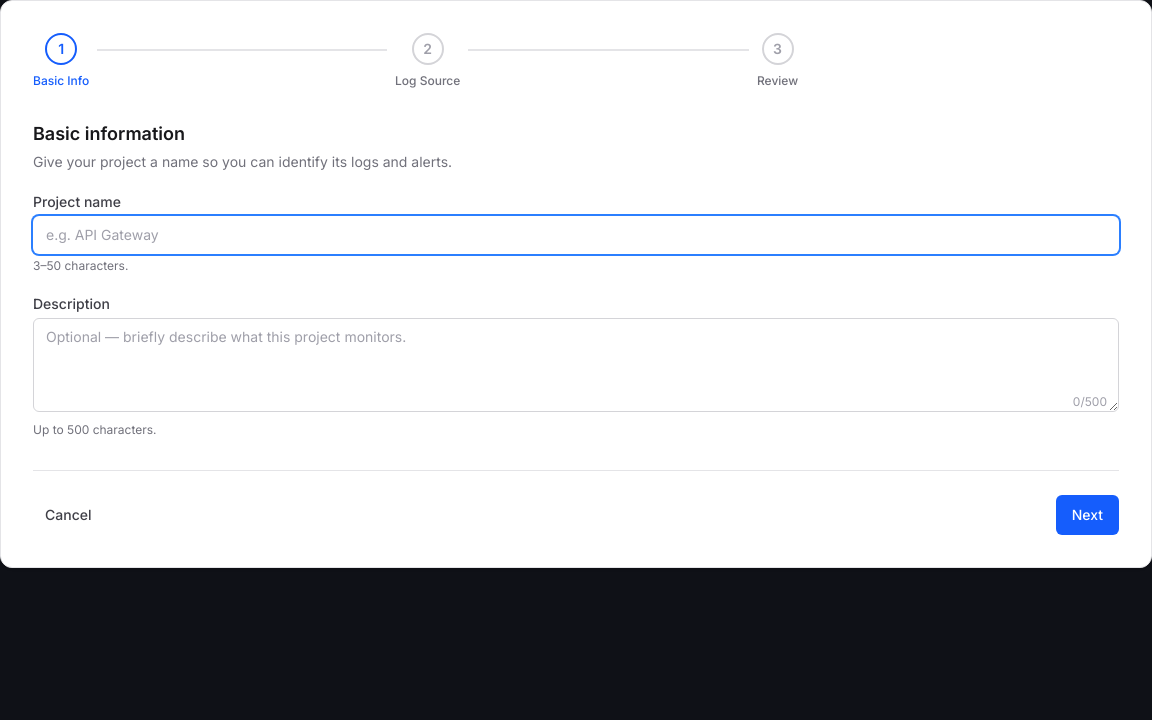
NewProjectWizard — Step 1: Basic Info › advances to step 2 when name is valid
Type "API Gateway" into the field labelled "Project name" at [576, 235], box [33,216,1119,254]
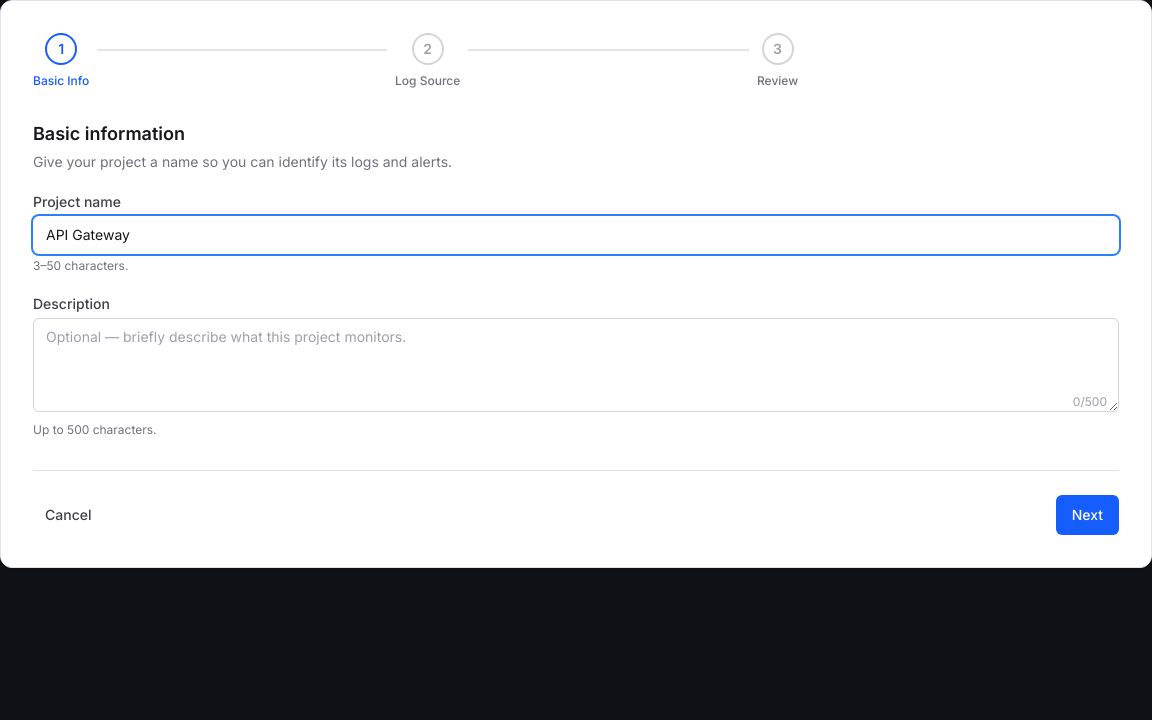
Click the button "Next" at [1087, 515], box [1056,495,1119,535]
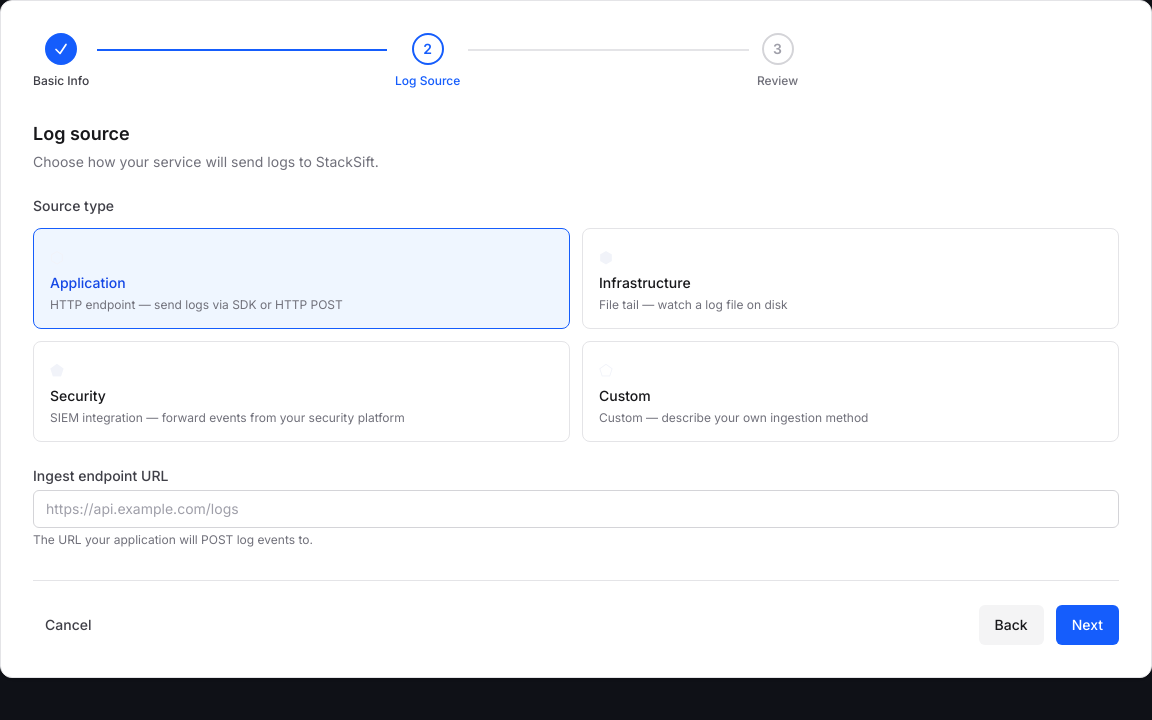
Now the radio button labelled "⬡ Application HTTP endpoint — send logs via SDK or HTTP POST" is shown, box [33,228,570,329]
Now the label "Description" is gone
